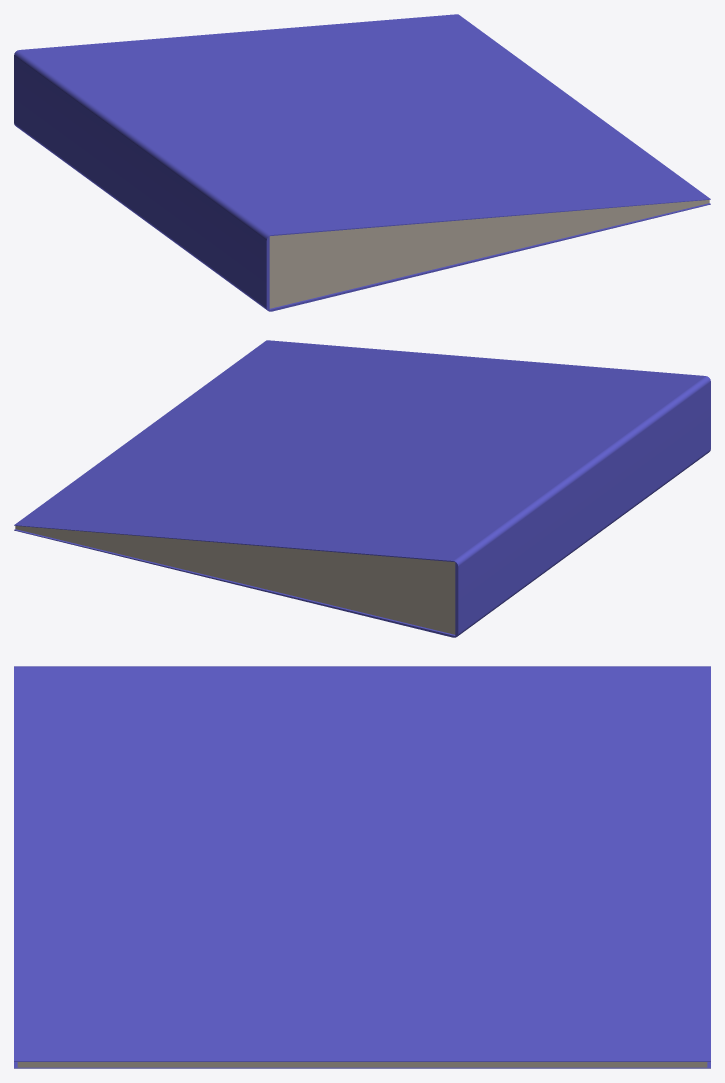
Rendered from Binder.fbx.
3 renders of one model, top to bottom at view 1: azimuth 30°, elevation 25°; view 2: azimuth 150°, elevation 25°; view 3: azimuth 270°, elevation 25°, orthographic. The views are drawn at different scales.
Parts seen in each view (by area): view 1: Binder; view 2: Binder; view 3: Binder.
Part boxes in pixels (x1,y1,x2,y2): Binder: (14, 14, 710, 311); Binder: (14, 340, 710, 637); Binder: (14, 666, 710, 1068).
Bounding box in the file's own units: 1.98 × 0.327 × 1.95.
